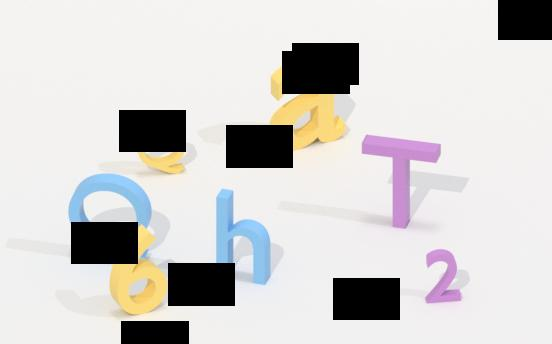2: (418, 245, 471, 308)
6: (106, 218, 172, 316)
a: (261, 62, 350, 150)
h: (211, 188, 283, 287)
q: (62, 177, 157, 256), (132, 121, 191, 177)
t-hoa: (352, 131, 456, 230)
